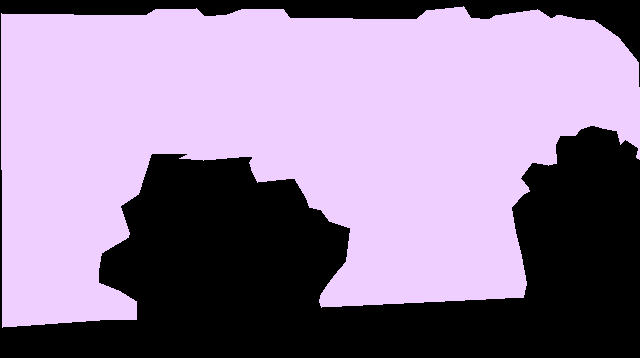Train: (1, 6, 640, 328)
